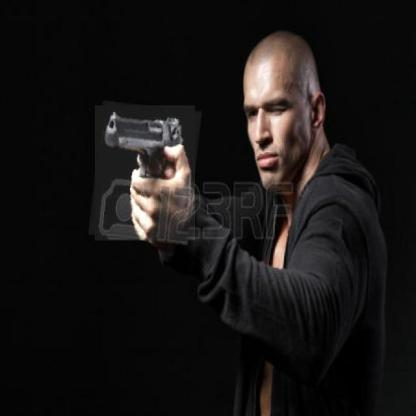handgun: (92, 103, 198, 243)
